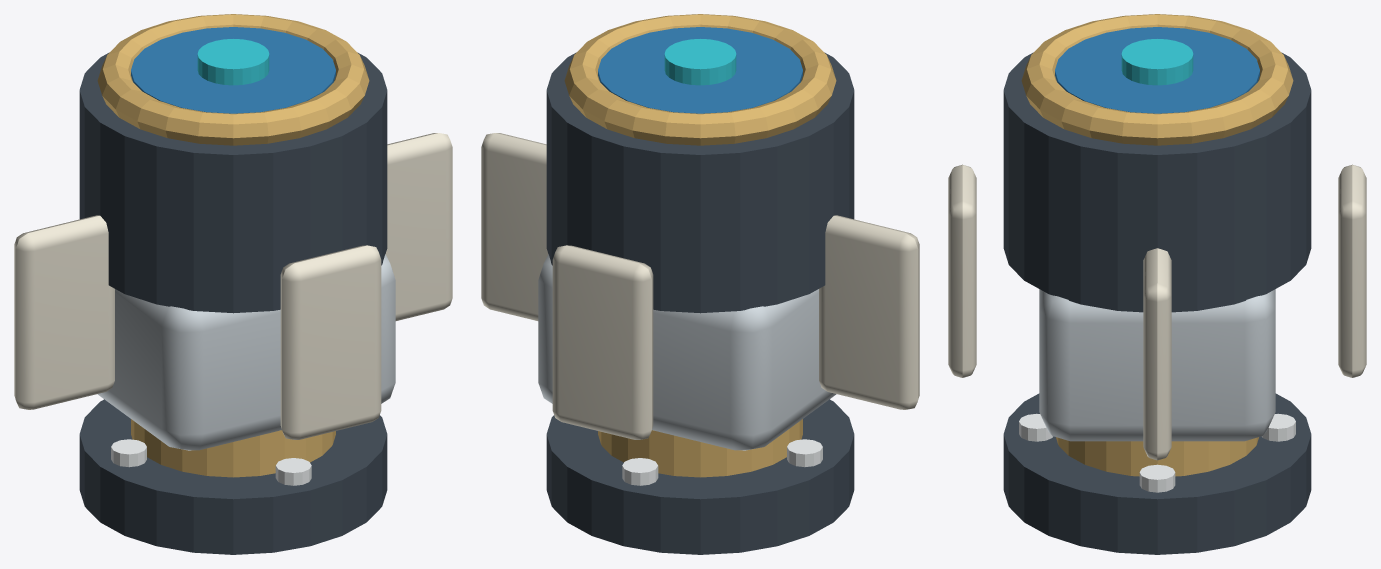
The model's file is ion_thruster.glb.
The picture shows the model from 3 angles, left to right: view 1: azimuth 30°, elevation 25°; view 2: azimuth 150°, elevation 25°; view 3: azimuth 270°, elevation 25°; orthographic projection.
Visible parts, largest first — view 1: Thruster_Casing, Mount_Flange, Thruster_Electronics, Radiator_Fin_003, Radiator_Fin_002, Ion_Grid_Outer, Radiator_Fin, Ion_Grid, Mount_Collar, Center_Emitter, Mount_Bolt_003, Mount_Bolt_002; view 2: Thruster_Casing, Mount_Flange, Thruster_Electronics, Radiator_Fin_001, Radiator_Fin_002, Ion_Grid_Outer, Radiator_Fin, Ion_Grid, Mount_Collar, Center_Emitter, Mount_Bolt_001, Mount_Bolt_002; view 3: Thruster_Casing, Thruster_Electronics, Mount_Flange, Ion_Grid_Outer, Ion_Grid, Radiator_Fin_001, Radiator_Fin_003, Radiator_Fin, Mount_Collar, Center_Emitter, Mount_Bolt, Mount_Bolt_001 (+1 smaller).
Part boxes in pixels (box(x1,y1,x2,y2)): Thruster_Casing: box(79, 52, 387, 313); Mount_Flange: box(79, 399, 387, 554); Thruster_Electronics: box(97, 254, 395, 450); Radiator_Fin_003: box(280, 245, 381, 439); Radiator_Fin_002: box(14, 215, 114, 409); Ion_Grid_Outer: box(97, 14, 369, 145); Radiator_Fin: box(385, 133, 452, 320); Ion_Grid: box(131, 27, 335, 113); Mount_Collar: box(131, 419, 335, 477); Center_Emitter: box(197, 39, 269, 85); Mount_Bolt_003: box(275, 458, 311, 485); Mount_Bolt_002: box(111, 439, 146, 467); Thruster_Casing: box(546, 52, 854, 313); Mount_Flange: box(546, 399, 854, 554); Thruster_Electronics: box(538, 254, 836, 450); Radiator_Fin_001: box(552, 245, 653, 439); Radiator_Fin_002: box(819, 215, 919, 409); Ion_Grid_Outer: box(564, 14, 836, 145); Radiator_Fin: box(481, 133, 548, 320); Ion_Grid: box(598, 27, 802, 113); Mount_Collar: box(598, 419, 802, 477); Center_Emitter: box(664, 39, 736, 85); Mount_Bolt_001: box(622, 458, 658, 485); Mount_Bolt_002: box(787, 439, 822, 467); Thruster_Casing: box(1003, 52, 1311, 312); Thruster_Electronics: box(1039, 289, 1275, 441); Mount_Flange: box(1003, 393, 1311, 554); Ion_Grid_Outer: box(1021, 14, 1293, 145); Ion_Grid: box(1055, 27, 1259, 113); Radiator_Fin_001: box(1338, 164, 1366, 377); Radiator_Fin_003: box(948, 164, 976, 377); Radiator_Fin: box(1143, 248, 1171, 460); Mount_Collar: box(1056, 437, 1258, 476); Center_Emitter: box(1121, 39, 1193, 85); Mount_Bolt: box(1139, 464, 1175, 492); Mount_Bolt_001: box(1261, 413, 1295, 441).
Size of the model in its own units: 0.98 by 0.9375 by 0.815.
